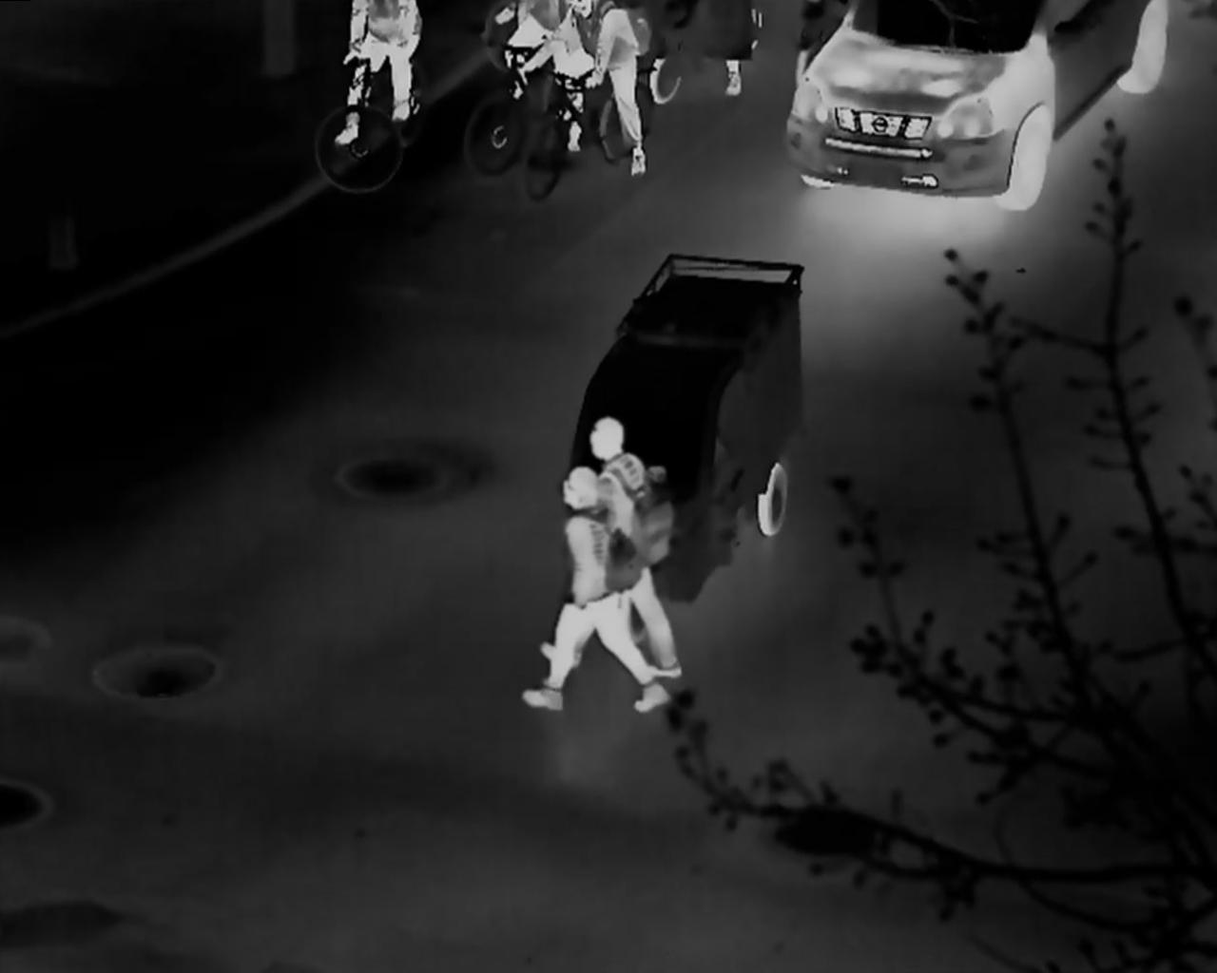person: (518, 466, 669, 717), (587, 415, 674, 576)
